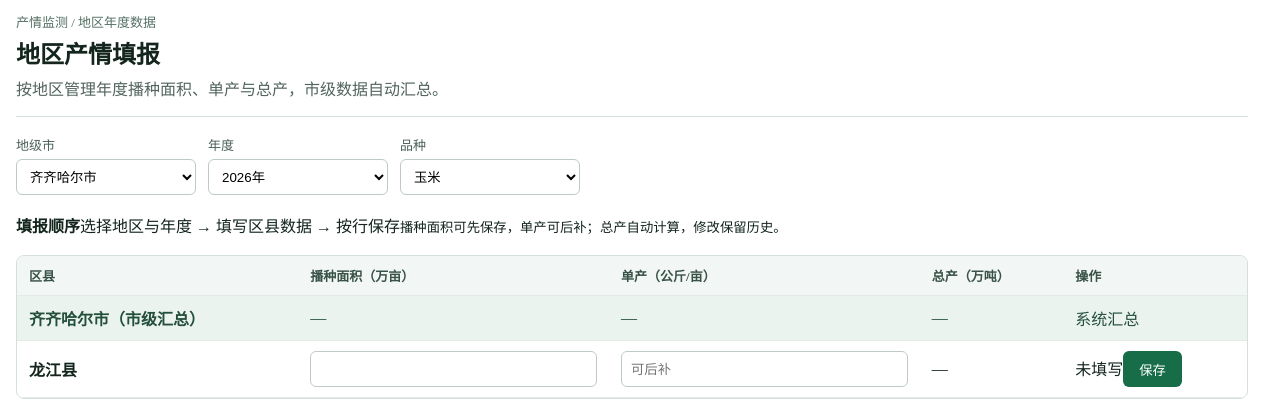
RegionalAnnualProductionWorkspace › does not apply an old-scope save response after the year changes
Expected: the column heading "齐齐哈尔市（市级汇总）" is shown, top-left (17, 296), bottom-right (298, 340)
Type "1" into the number field named "龙江县播种面积" at coordinates (454, 369), box top-left (310, 351), bottom-right (597, 387)
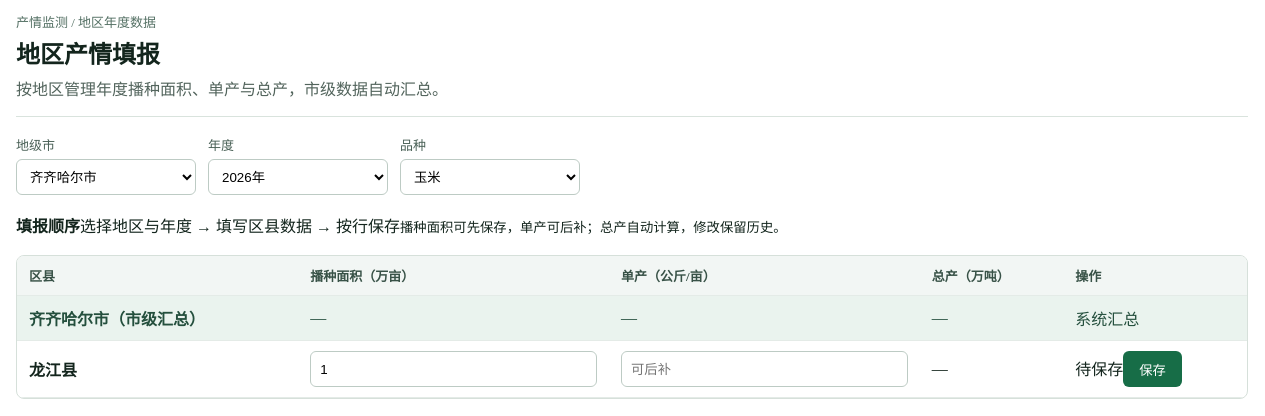
Type "500" into the number field named "龙江县单产" at coordinates (764, 369), box top-left (621, 351), bottom-right (908, 387)
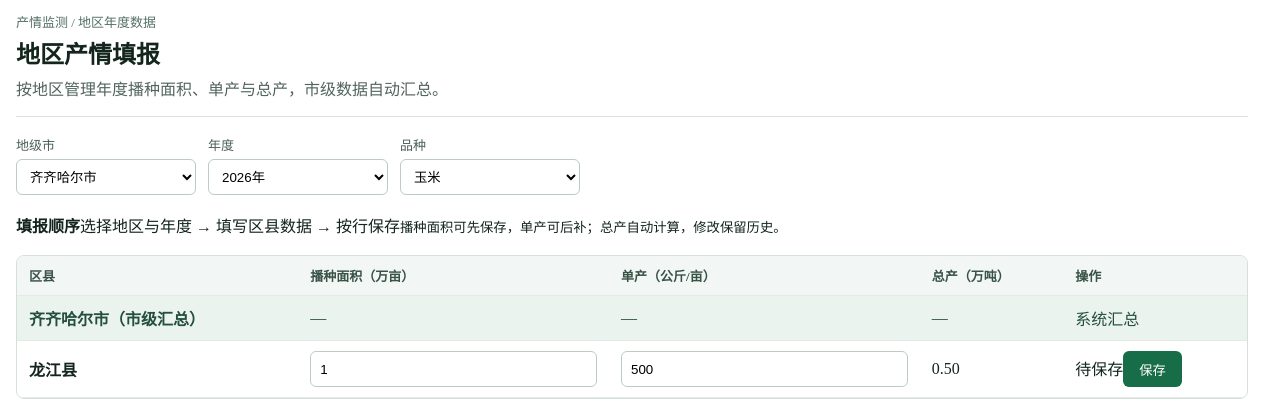
Click the button with aria-label "保存龙江县" at coordinates (1153, 369), box top-left (1123, 351), bottom-right (1182, 387)
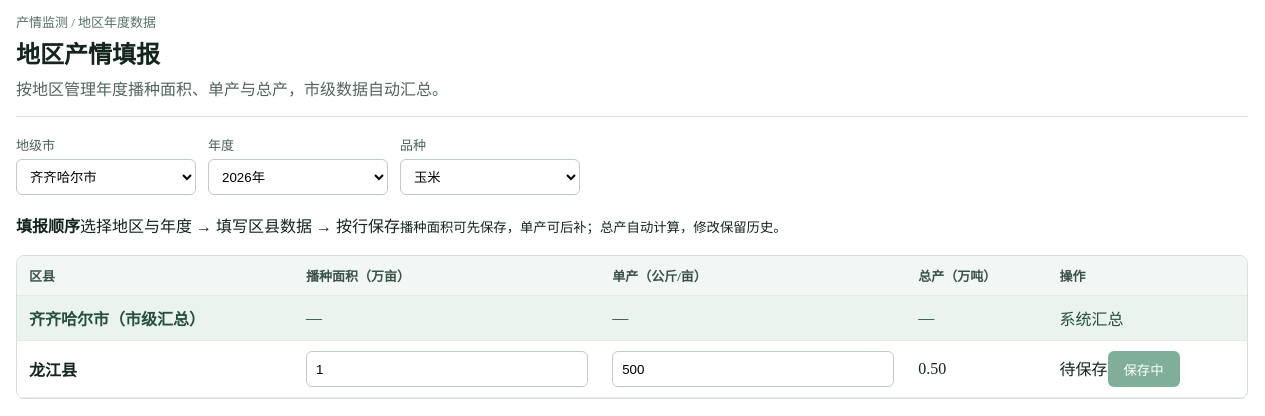
Select "2025年" in the dropdown named "地区产情年度" at coordinates (298, 177), box top-left (208, 159), bottom-right (388, 195)
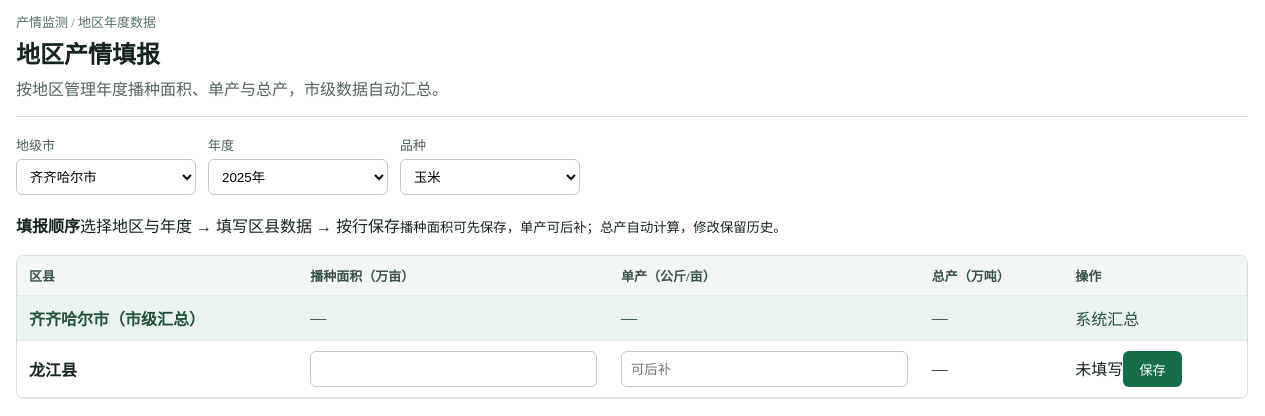
Expected: the number field named "龙江县播种面积" is not empty, top-left (310, 351), bottom-right (597, 387)
